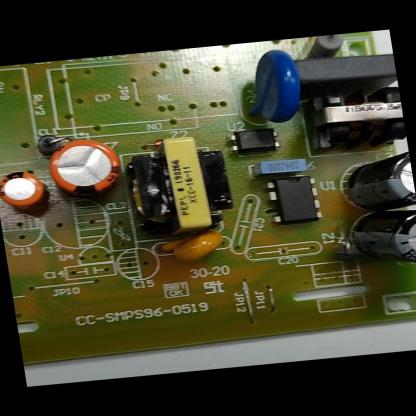Cap1: (39, 132, 128, 202)
Cap2: (0, 165, 52, 218)
Cap3: (332, 146, 416, 217)
Cap4: (334, 203, 416, 273)
MOSFET: (260, 171, 325, 228)
Mov: (232, 46, 308, 128)
Resistor: (298, 34, 350, 64)
Transformer: (121, 130, 238, 242), (300, 82, 407, 157)
